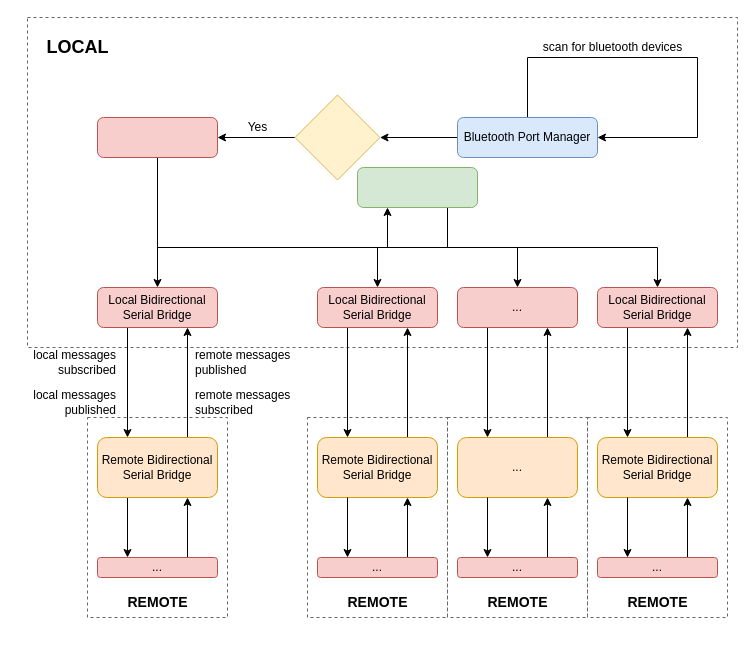
Image size: 755x645. Some labels were removed from this diagram. The centre of each missing label's shape, as x and y in pixels:
"device whitelisted?" belongs at (x=337, y=137).
"Local ROS Master" belongs at (x=417, y=187).
"Port Manager Interface" belongs at (x=157, y=137).
